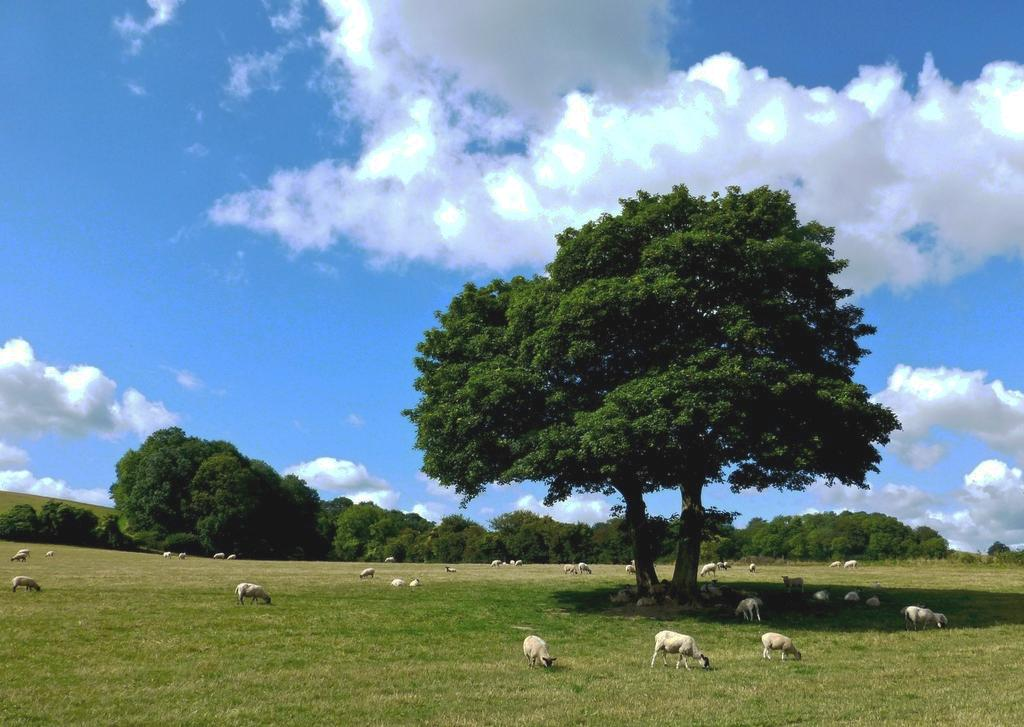Sheep: (652, 630, 711, 672), (760, 634, 802, 662), (525, 634, 556, 668), (233, 581, 271, 606), (735, 595, 761, 623), (11, 576, 44, 595), (903, 602, 924, 628), (782, 573, 804, 592), (932, 610, 948, 629), (700, 562, 715, 580), (358, 567, 376, 579), (843, 590, 858, 604), (10, 552, 27, 564), (813, 589, 830, 601), (866, 595, 880, 609), (578, 561, 591, 576), (563, 564, 578, 576), (18, 547, 32, 558), (626, 564, 636, 577), (177, 550, 187, 562), (489, 560, 502, 569), (162, 551, 173, 561), (213, 552, 225, 561), (748, 562, 757, 574), (226, 552, 236, 562), (409, 578, 420, 587), (443, 566, 457, 573), (45, 549, 54, 559)
